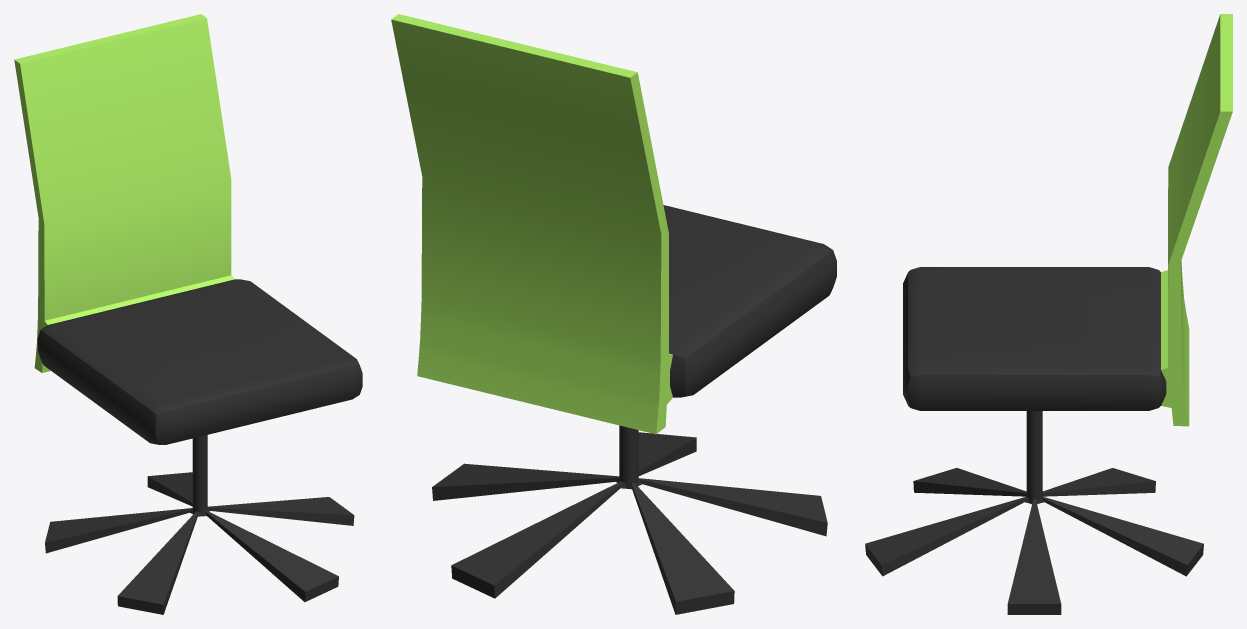
Rendered from chair.fbx.
The picture shows the model from 3 angles, left to right: view 1: azimuth 30°, elevation 25°; view 2: azimuth 150°, elevation 25°; view 3: azimuth 270°, elevation 25°; orthographic projection. The views are drawn at different scales.
Visible parts, largest first — view 1: pCube3, pCylinder1; view 2: pCube3, pCylinder1; view 3: pCube3, pCylinder1.
Boxes of the visible parts, x1=… form: pCube3: x1=14, y1=14, x2=362, y2=444; pCylinder1: x1=45, y1=435, x2=354, y2=614; pCube3: x1=391, y1=14, x2=836, y2=434; pCylinder1: x1=432, y1=425, x2=827, y2=614; pCube3: x1=903, y1=14, x2=1232, y2=426; pCylinder1: x1=865, y1=411, x2=1203, y2=614.
Bounding box in the file's own units: 52.08 × 85.27 × 59.4.
